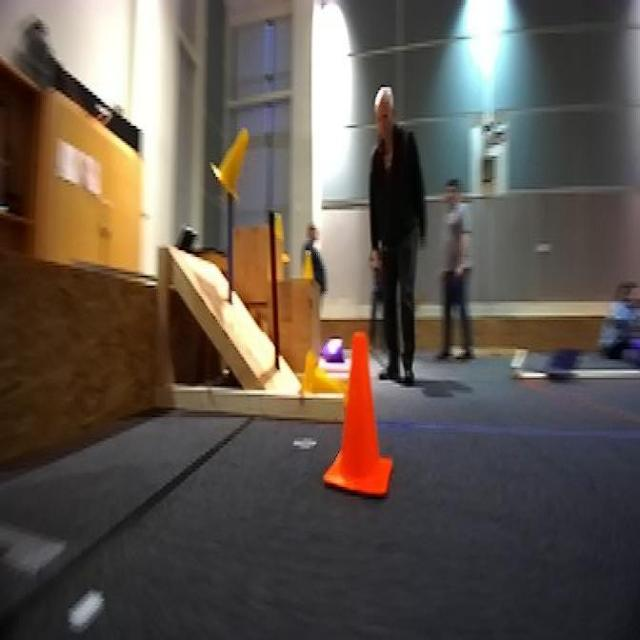frc_cone: (208, 123, 248, 206), (300, 352, 348, 402), (268, 205, 290, 272), (295, 248, 320, 293)
frc_cube: (320, 336, 342, 364)
